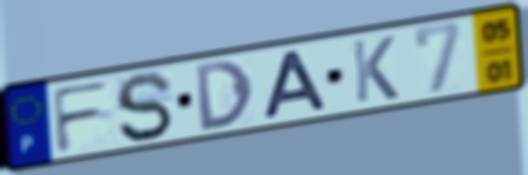7: (409, 17, 470, 99)
A: (260, 47, 331, 122)
D: (192, 57, 256, 134)
F: (48, 77, 115, 157)
K: (349, 33, 402, 105)
S: (112, 70, 177, 145)
